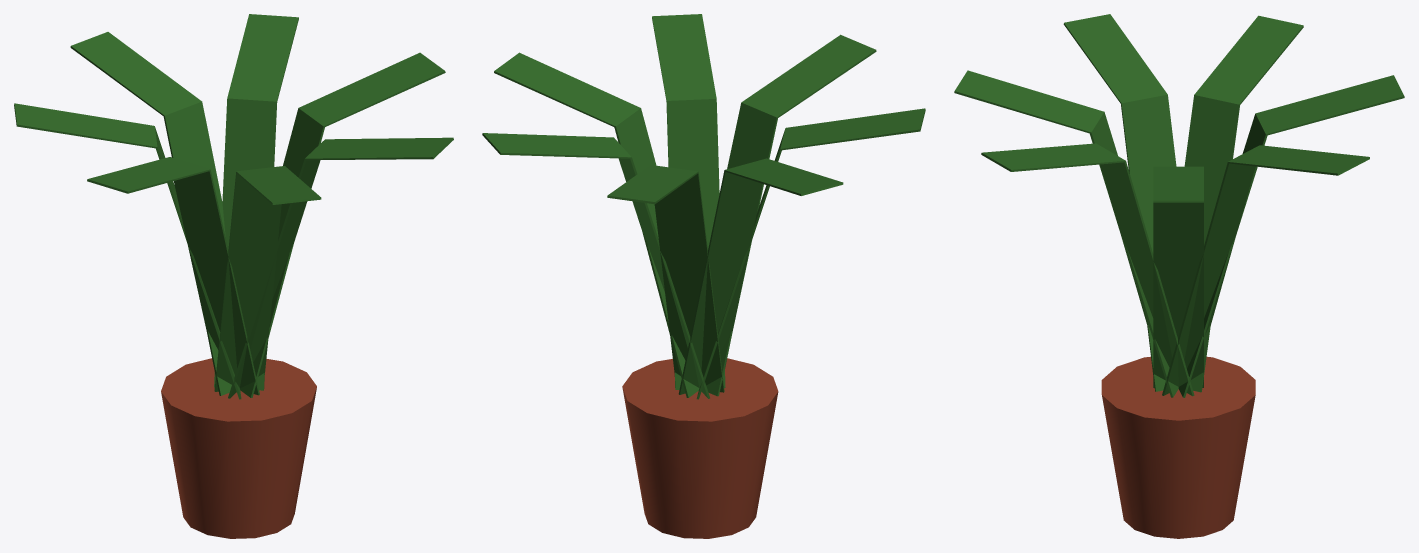
Rendered from home.plant.medium.glb.
The picture shows the model from 3 angles, left to right: view 1: azimuth 30°, elevation 25°; view 2: azimuth 150°, elevation 25°; view 3: azimuth 270°, elevation 25°; orthographic projection.
Parts seen in each view (by area): view 1: main__foliage, main__clay_tile; view 2: main__foliage, main__clay_tile; view 3: main__foliage, main__clay_tile.
Part boxes in pixels (left/top/right/bottom): main__foliage: left=14, top=14, right=453, bottom=399; main__clay_tile: left=161, top=358, right=316, bottom=538; main__foliage: left=482, top=14, right=925, bottom=399; main__clay_tile: left=622, top=358, right=778, bottom=538; main__foliage: left=954, top=14, right=1404, bottom=397; main__clay_tile: left=1101, top=356, right=1255, bottom=538.
Size of the model in its own units: 0.7845 by 0.802 by 0.7994.
